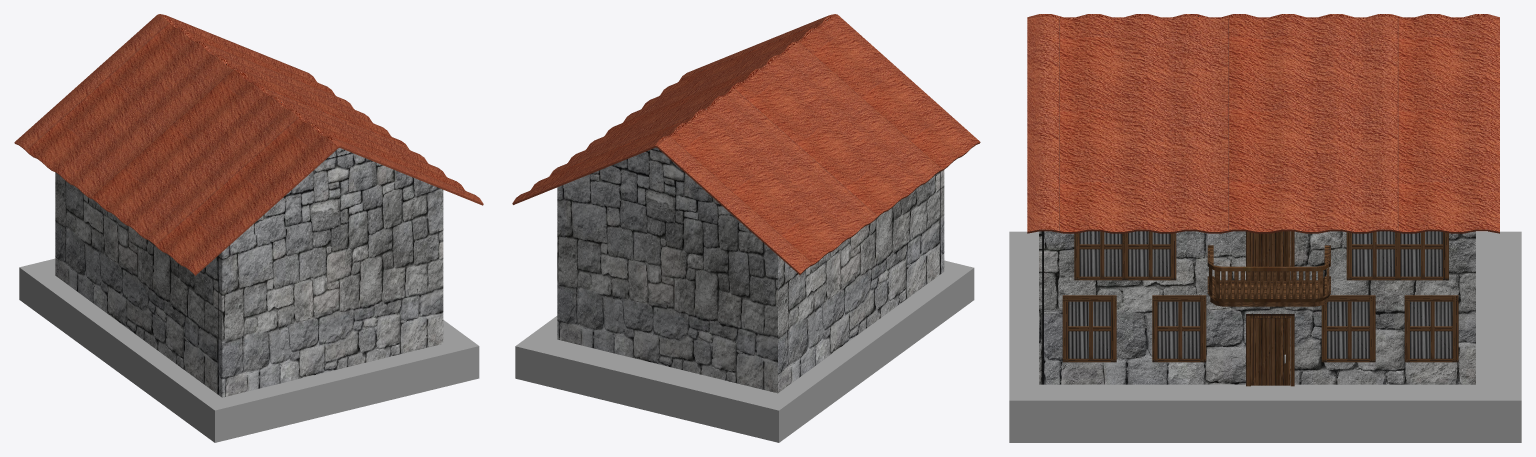
File: Casa2.fbx
3 renders of one model, left to right at view 1: azimuth 30°, elevation 25°; view 2: azimuth 150°, elevation 25°; view 3: azimuth 270°, elevation 25°, orthographic. The views are drawn at different scales.
Parts seen in each view (by area): view 1: pCube71, pCube57, base; view 2: pCube71, pCube57, base; view 3: pCube57, base, pCube71, pPlane1 (×8), pCube65, Puerta6, Puerta5, marco_Puerta1.
Boxes of the visible parts, x1,y1,x2,y2 form: pCube71: [55, 148, 443, 397]; pCube57: [14, 14, 483, 275]; base: [19, 258, 479, 442]; pCube71: [557, 147, 944, 393]; pCube57: [512, 14, 980, 274]; base: [515, 260, 974, 442]; pCube57: [1027, 14, 1499, 233]; base: [1009, 231, 1521, 442]; pCube71: [1039, 231, 1475, 384]; pPlane1 (×8): [1068, 231, 1452, 358]; pCube65: [1207, 245, 1330, 306]; Puerta6: [1251, 318, 1290, 385]; Puerta5: [1251, 231, 1290, 281]; marco_Puerta1: [1246, 314, 1294, 386].
Size of the model in its own units: 50.61 by 43.54 by 59.03.
Materials: 6 (5 with a texture image).
